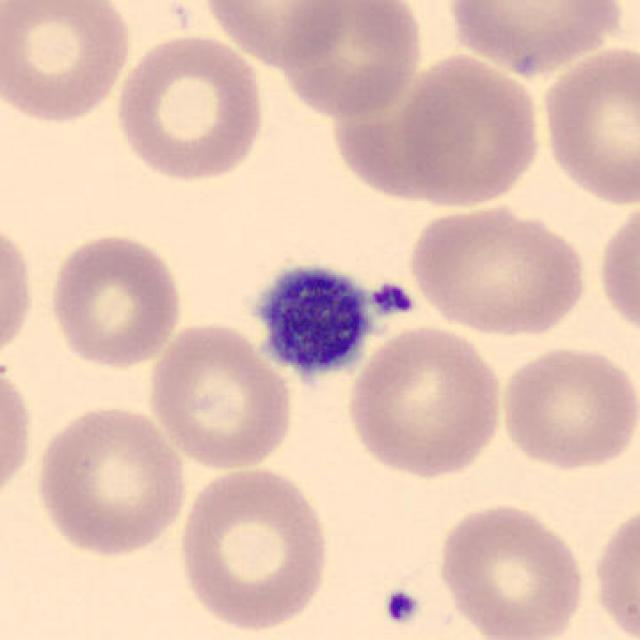Platelets: (244, 256, 380, 390), (379, 584, 423, 630), (368, 279, 418, 319)
RBC: (174, 462, 334, 635), (343, 321, 509, 481), (404, 200, 592, 340), (32, 400, 190, 559), (396, 50, 546, 212), (112, 30, 268, 183), (144, 318, 297, 472), (432, 499, 588, 640), (331, 59, 475, 201), (45, 229, 186, 370), (496, 342, 638, 473), (275, 2, 425, 122), (0, 0, 135, 127), (537, 41, 638, 208), (441, 0, 627, 76), (201, 0, 355, 69), (588, 497, 640, 640), (594, 196, 638, 346), (0, 213, 37, 368), (0, 354, 36, 512)
